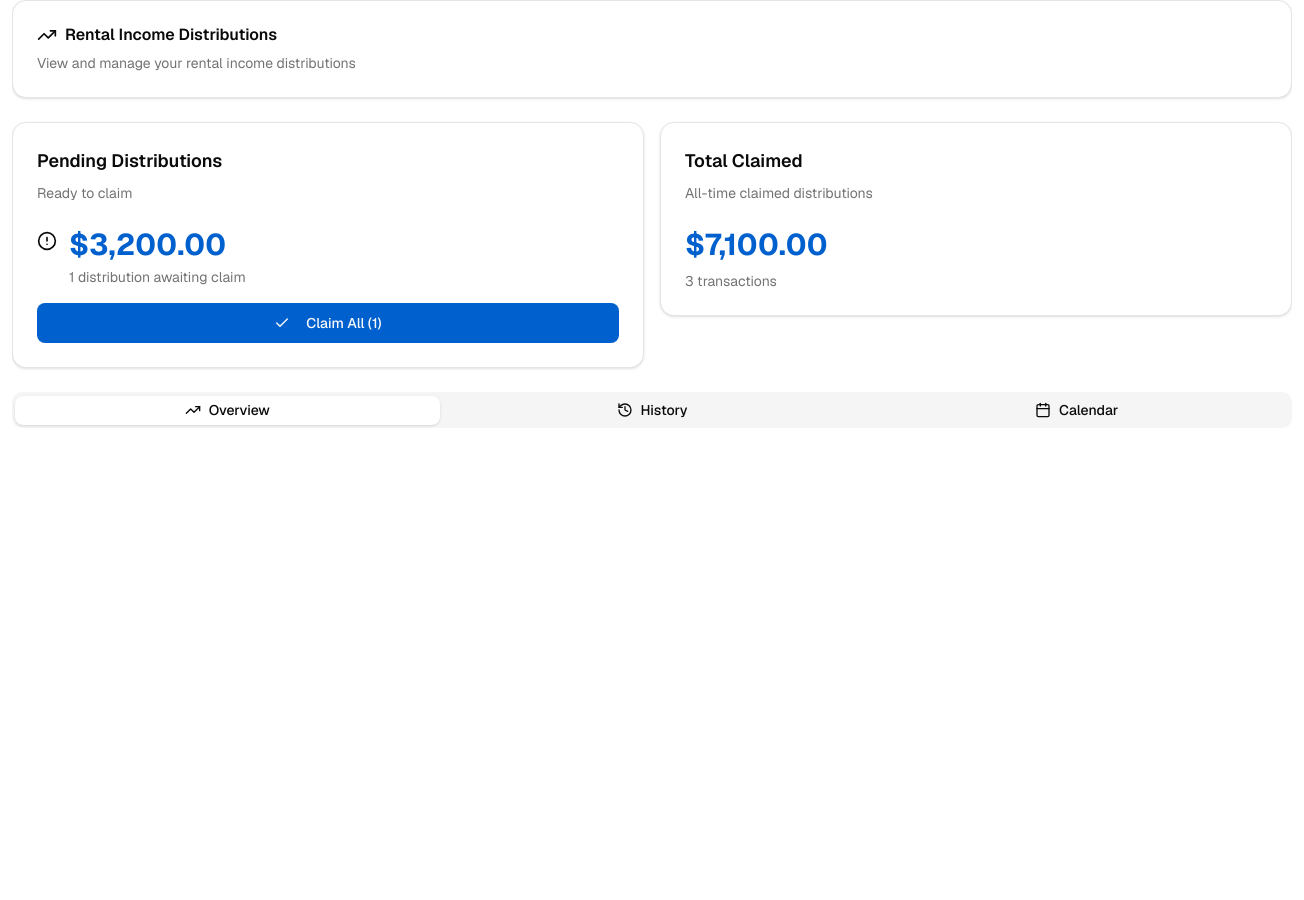
RentalIncomeDistribution › should render distribution history table
// second tab is History
Click the tab "History": click(652, 410) 440,396 -> 864,424
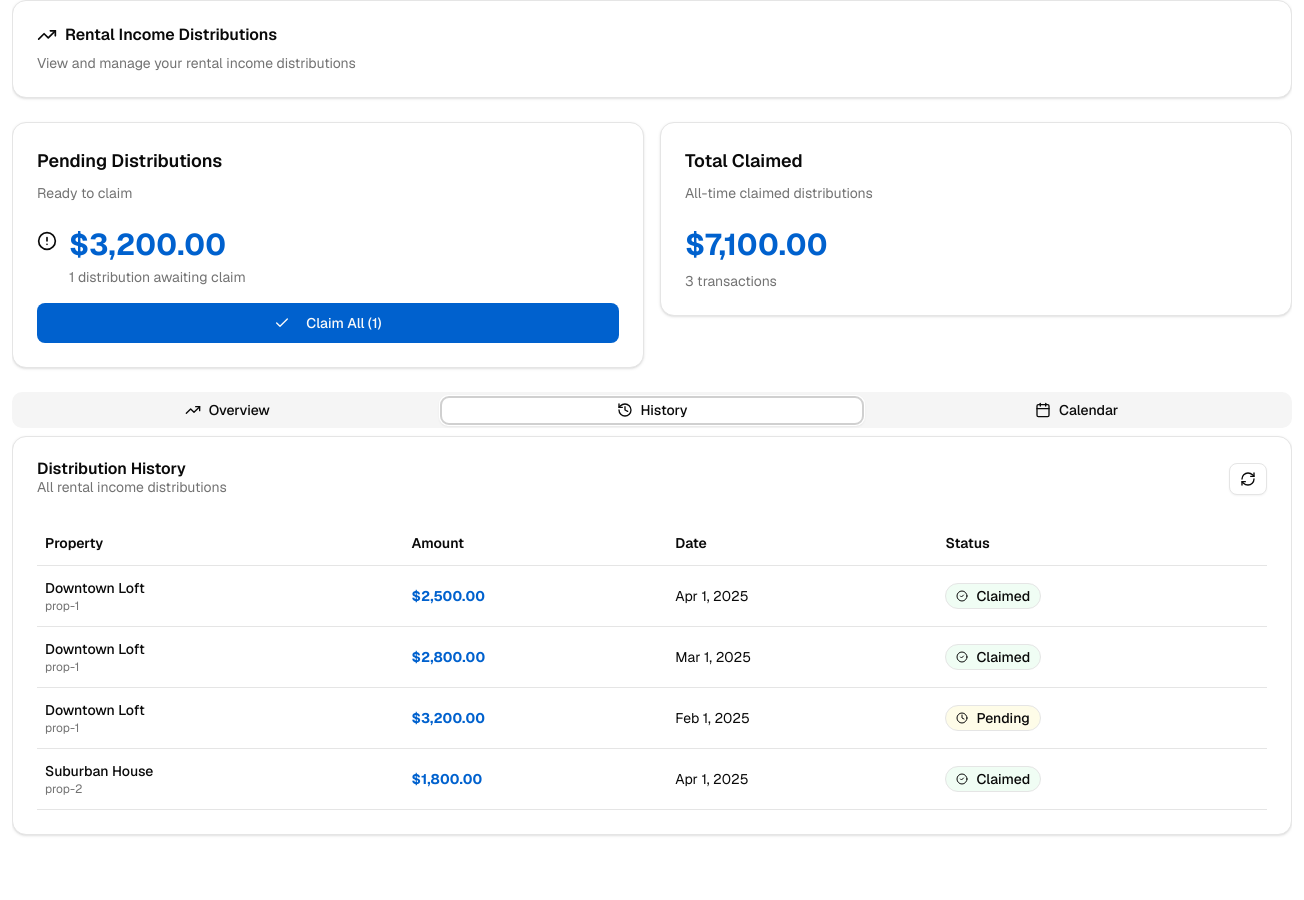
Now the text "Distribution History" is shown, box 37,458 -> 186,479
